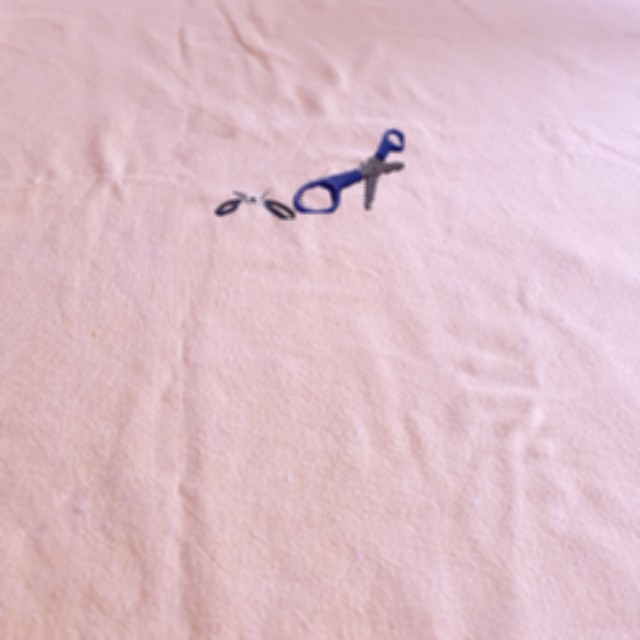scissors: (293, 129, 404, 213), (215, 189, 295, 219)
